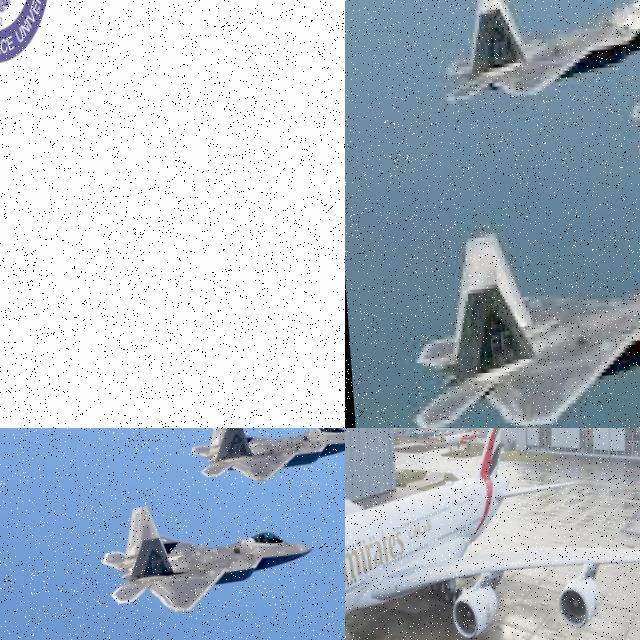A380: (345, 428, 640, 640)
F22: (403, 204, 640, 428), (100, 493, 317, 624), (429, 0, 640, 101), (192, 428, 345, 498)
